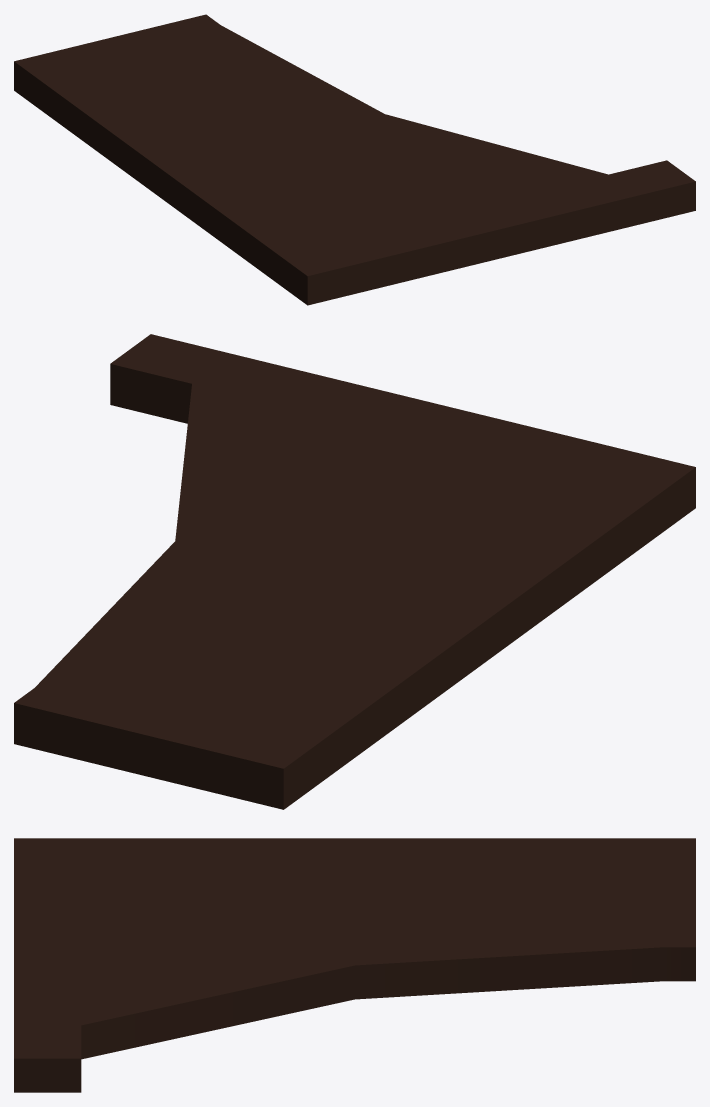
File: sueloRotoPasilloInterior_geo.fbx
3 renders of one model, top to bottom at view 1: azimuth 30°, elevation 25°; view 2: azimuth 150°, elevation 25°; view 3: azimuth 270°, elevation 25°, orthographic. The views are drawn at different scales.
Visible parts, largest first — view 1: sueloRotoPasilloInterior_geo; view 2: sueloRotoPasilloInterior_geo; view 3: sueloRotoPasilloInterior_geo.
Part boxes in pixels (box(x1,y1,x2,y2)): sueloRotoPasilloInterior_geo: box(14, 14, 695, 305); sueloRotoPasilloInterior_geo: box(14, 334, 695, 809); sueloRotoPasilloInterior_geo: box(14, 838, 695, 1092).
Size of the model in its own units: 7.74 by 0.5575 by 10.14.
